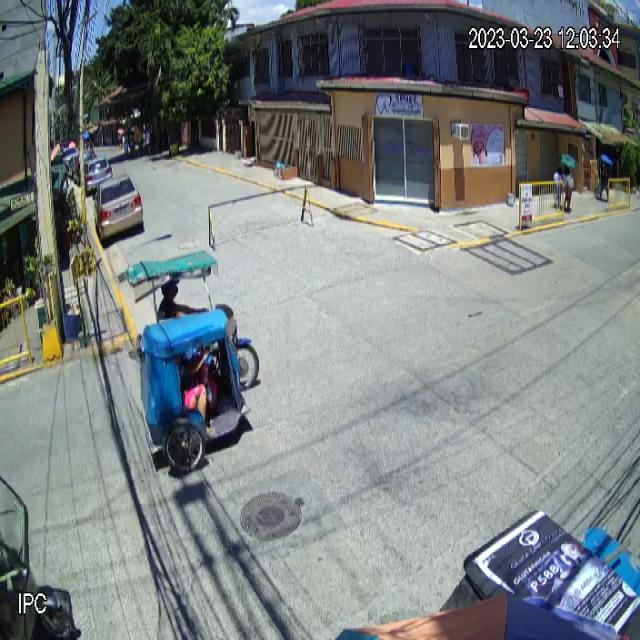Tricycle: (127, 250, 260, 472)
